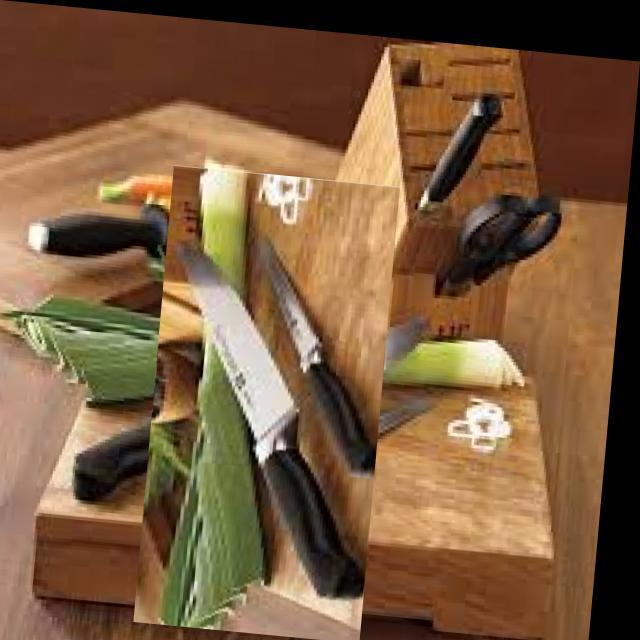knife: (172, 240, 366, 600), (73, 400, 434, 505), (262, 240, 378, 476), (417, 92, 505, 213)
